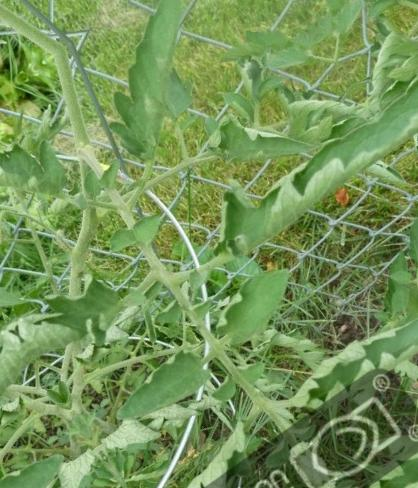Tomato mold leaf: (194, 97, 405, 277), (58, 0, 255, 166), (8, 250, 145, 372), (195, 254, 319, 368), (105, 343, 220, 444)
